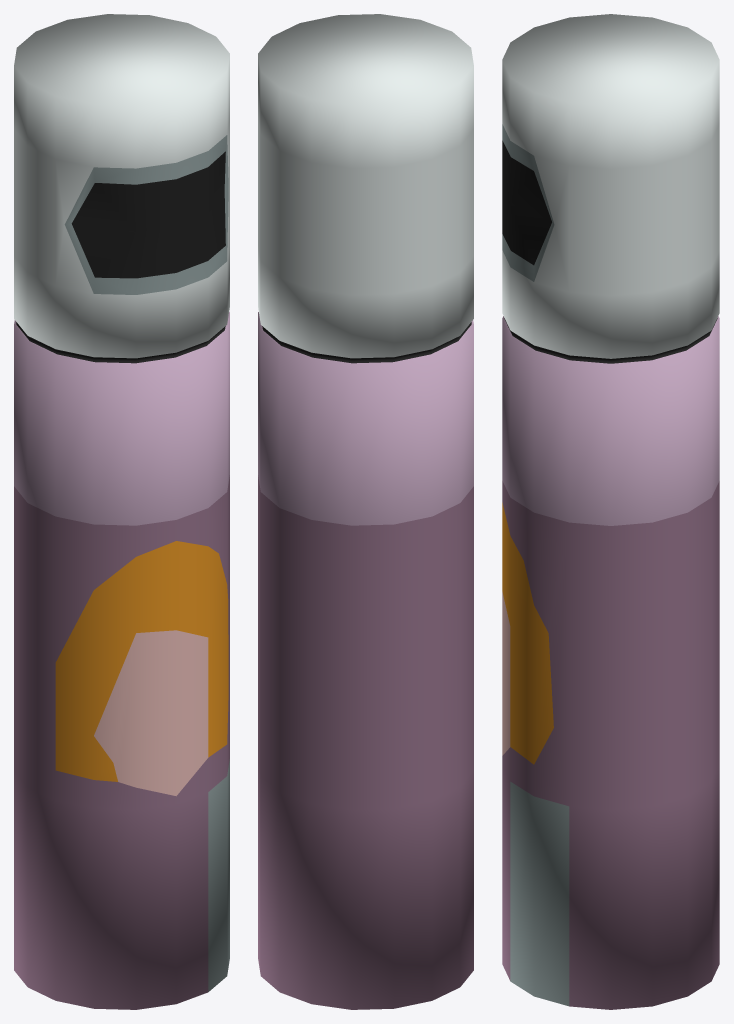
Rendered from sacboyasi.fbx.
3 views of the same model, side by side, from view 1: azimuth 30°, elevation 25°; view 2: azimuth 150°, elevation 25°; view 3: azimuth 270°, elevation 25° (orthographic).
Parts seen in each view (by area): view 1: sacboyasi; view 2: sacboyasi; view 3: sacboyasi.
Boxes of the visible parts, x1,y1,x2,y2 form: sacboyasi: [14, 14, 229, 1009]; sacboyasi: [258, 14, 473, 1009]; sacboyasi: [502, 14, 719, 1009].
Bounding box in the file's own units: 75.51 × 346 × 75.51.
